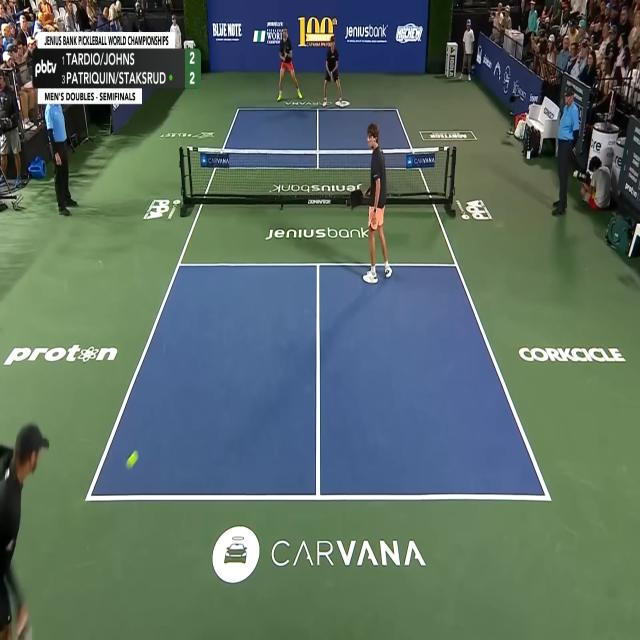ball: (126, 450, 139, 470)
